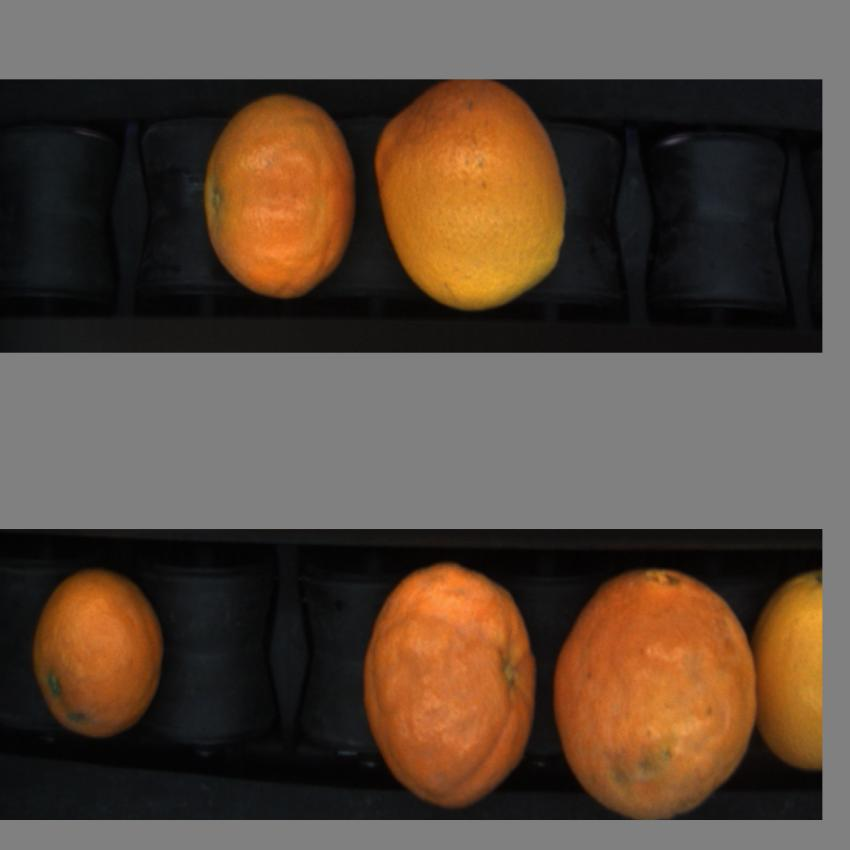Buen estado: (371, 88, 569, 328), (27, 563, 182, 756), (753, 563, 820, 782)
Mal estado: (554, 563, 758, 818), (360, 572, 545, 812), (202, 101, 361, 306)
